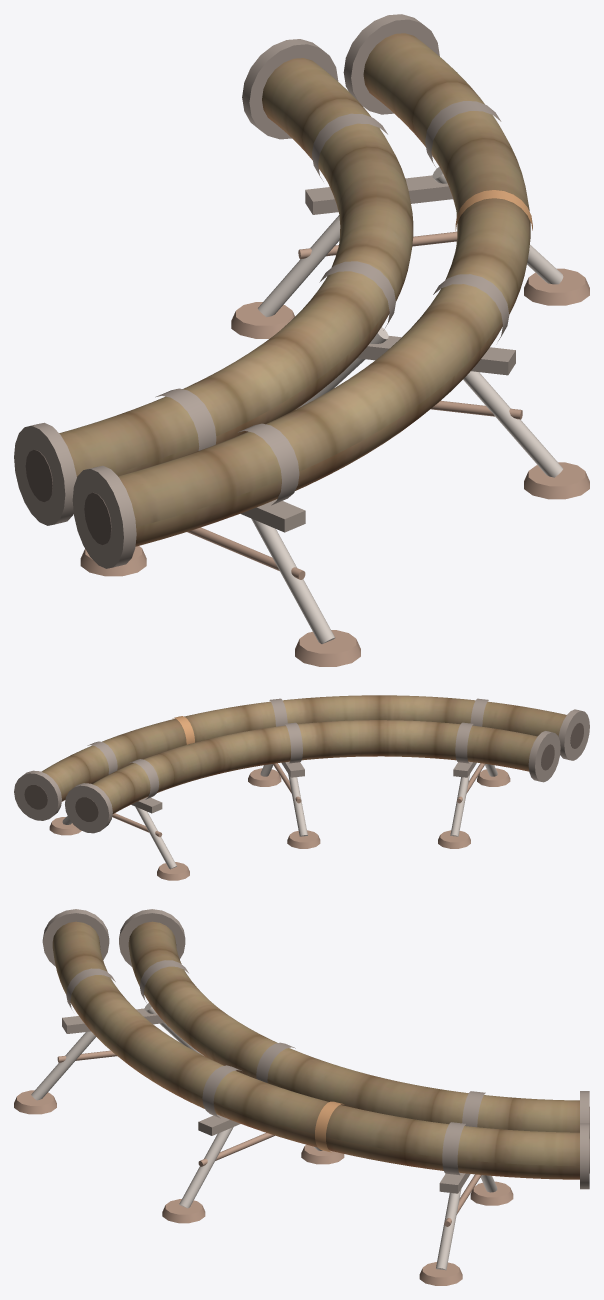
Rendered from E14_pipeline_bend90.glb.
3 renders of one model, top to bottom at view 1: azimuth 30°, elevation 25°; view 2: azimuth 150°, elevation 25°; view 3: azimuth 270°, elevation 25°, orthographic. The views are drawn at different scales.
Visible parts, largest first — view 1: pipe, end_flange, footpad, leg, bore; view 2: pipe, end_flange, footpad, leg, bore; view 3: pipe, end_flange, footpad, leg, bore.
Boxes of the visible parts, x1,y1,x2,y2 form: pipe: (59,33,530,546); end_flange: (14,14,515,568); footpad: (80,231,589,666); leg: (251,167,563,643); bore: (25,190,532,544); pipe: (41,695,566,813); end_flange: (14,698,589,833); footpad: (49,763,510,880); leg: (62,764,497,869); bore: (24,716,583,821); pipe: (52,921,579,1179); end_flange: (42,909,589,1193); footpad: (14,1050,513,1285); leg: (31,1003,497,1270); bore: (315,1101,589,1173).
Size of the model in its own units: 3.63 by 0.9301 by 3.63.
Materials: 5 (1 with a texture image).
